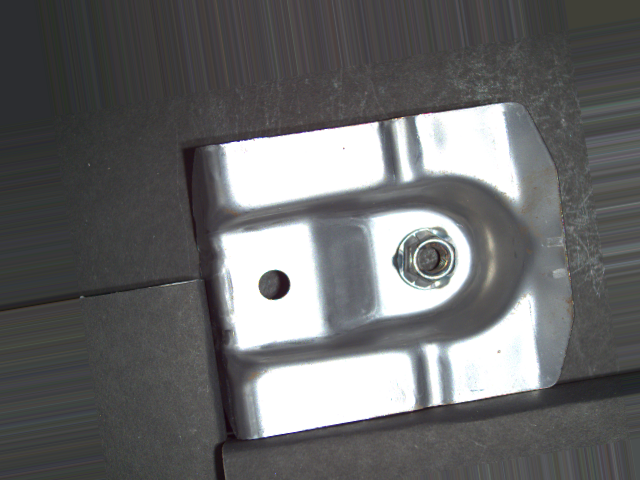good: (393, 223, 461, 293)
